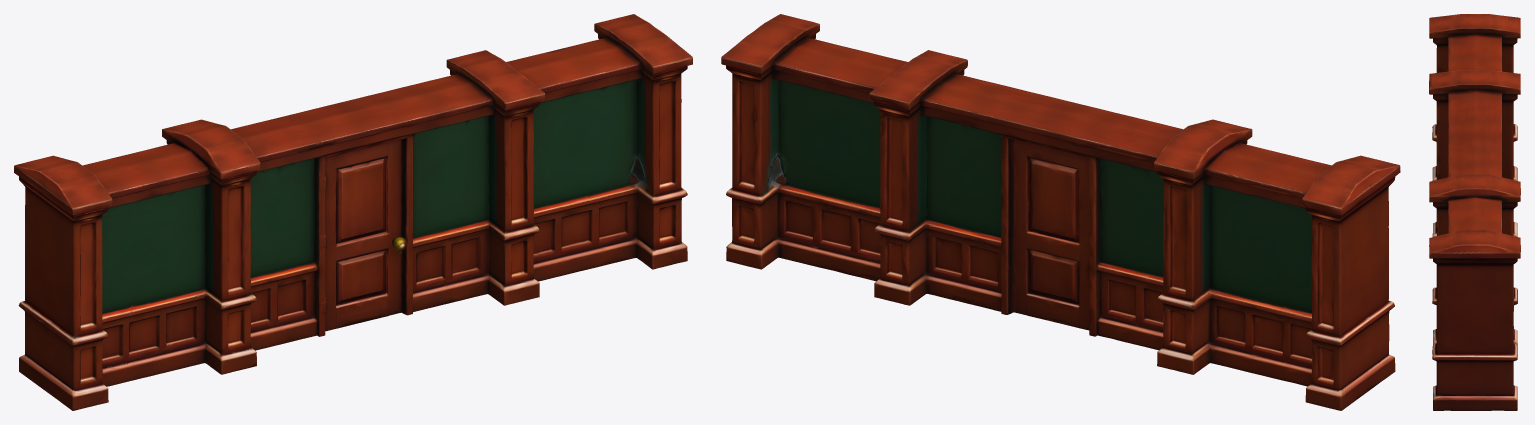
The model's file is wall-door.glb.
3 renders of one model, left to right at view 1: azimuth 30°, elevation 25°; view 2: azimuth 150°, elevation 25°; view 3: azimuth 270°, elevation 25°, orthographic. The views are drawn at different scales.
Visible parts, largest first — view 1: tripo_node_57ec06ab-df7c-4f57-b91f-d5d7c45596b3; view 2: tripo_node_57ec06ab-df7c-4f57-b91f-d5d7c45596b3; view 3: tripo_node_57ec06ab-df7c-4f57-b91f-d5d7c45596b3.
Boxes of the visible parts, bbox=[...] form: tripo_node_57ec06ab-df7c-4f57-b91f-d5d7c45596b3: bbox=[14, 14, 692, 410]; tripo_node_57ec06ab-df7c-4f57-b91f-d5d7c45596b3: bbox=[721, 14, 1400, 410]; tripo_node_57ec06ab-df7c-4f57-b91f-d5d7c45596b3: bbox=[1429, 14, 1520, 410].
Bounding box in the file's own units: 0.9793 × 0.3208 × 0.1613.
Materials: 1 (1 with a texture image).
